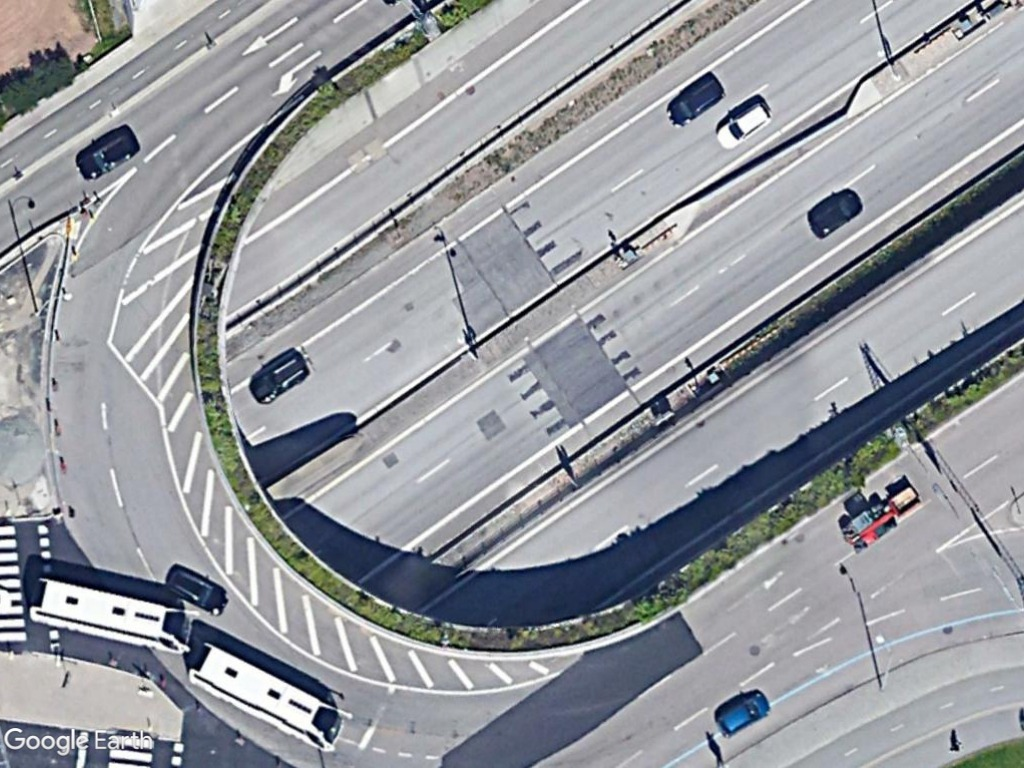bus: (182, 639, 348, 760), (21, 573, 195, 657)
car: (157, 558, 232, 621), (71, 121, 144, 184), (661, 65, 725, 133), (243, 345, 314, 406), (803, 184, 867, 245), (712, 97, 777, 156), (712, 689, 777, 740)
